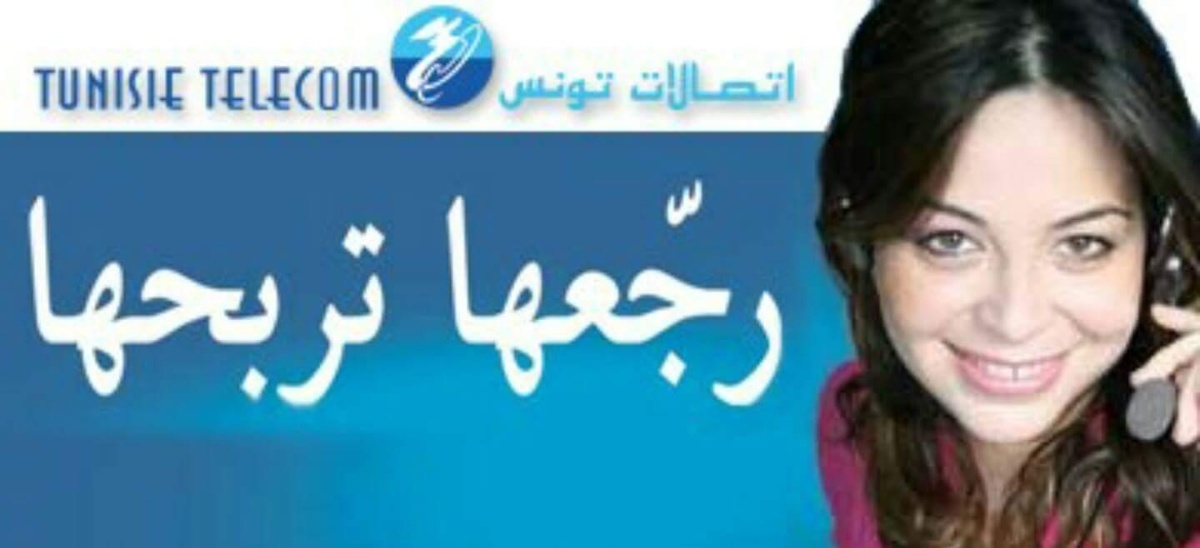text: (449, 178, 464, 408), (465, 178, 480, 408), (481, 178, 496, 408), (497, 178, 512, 408), (513, 178, 528, 408), (529, 178, 544, 408), (545, 178, 560, 408), (561, 178, 576, 408), (577, 178, 592, 408), (593, 178, 608, 408), (609, 178, 624, 408), (625, 178, 640, 408), (641, 178, 656, 408), (657, 178, 672, 408), (673, 178, 688, 408), (689, 178, 704, 408), (705, 178, 720, 408), (721, 178, 736, 408), (737, 178, 752, 408), (753, 178, 768, 408), (769, 178, 784, 408), (33, 195, 48, 410), (49, 195, 64, 410), (65, 195, 80, 410), (81, 195, 96, 410), (97, 195, 112, 410), (113, 195, 128, 410), (129, 195, 144, 410), (145, 195, 160, 410), (161, 195, 176, 410), (177, 195, 192, 410), (193, 195, 208, 410), (209, 195, 224, 410), (225, 195, 240, 410), (241, 195, 256, 410), (257, 195, 272, 410), (273, 195, 288, 410), (289, 195, 304, 410), (305, 195, 320, 410), (321, 195, 336, 410), (337, 195, 352, 410), (353, 195, 368, 410), (369, 195, 384, 410), (442, 178, 448, 408), (27, 195, 32, 410), (641, 61, 656, 113), (657, 61, 672, 113), (673, 61, 688, 113), (689, 61, 704, 113), (705, 61, 720, 113), (721, 61, 736, 113), (737, 61, 752, 113), (753, 61, 768, 113), (769, 61, 784, 113), (49, 65, 64, 115), (65, 65, 80, 115), (81, 65, 96, 115), (97, 65, 112, 115), (113, 65, 128, 115), (129, 65, 144, 115), (145, 65, 160, 115), (161, 65, 176, 115), (209, 64, 224, 114), (225, 64, 240, 114), (241, 64, 256, 114), (257, 64, 272, 114), (273, 64, 288, 114), (289, 64, 304, 114), (305, 64, 320, 114), (321, 64, 336, 114), (337, 64, 352, 114), (353, 64, 368, 114), (369, 64, 384, 114), (34, 65, 48, 115), (385, 195, 388, 410), (513, 71, 528, 111), (529, 71, 544, 111), (545, 71, 560, 111), (561, 71, 576, 111), (577, 71, 592, 111), (593, 71, 608, 111), (785, 61, 796, 113), (498, 71, 512, 111), (630, 61, 640, 113), (177, 65, 186, 115), (200, 64, 208, 114), (609, 71, 616, 111), (785, 178, 786, 408)
